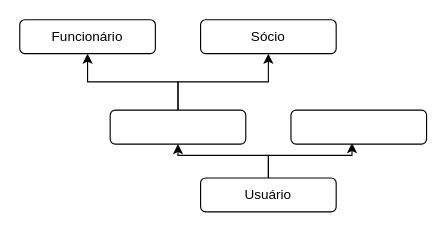
The diagram is 446 pixels wide and 232 high, and some of its shapes have lost their labels. The box of each missing label's shape, as (x1, y1, x2, y2) in pixels:
Empresa: (109, 109, 246, 144)
Terceiro: (290, 109, 427, 144)
